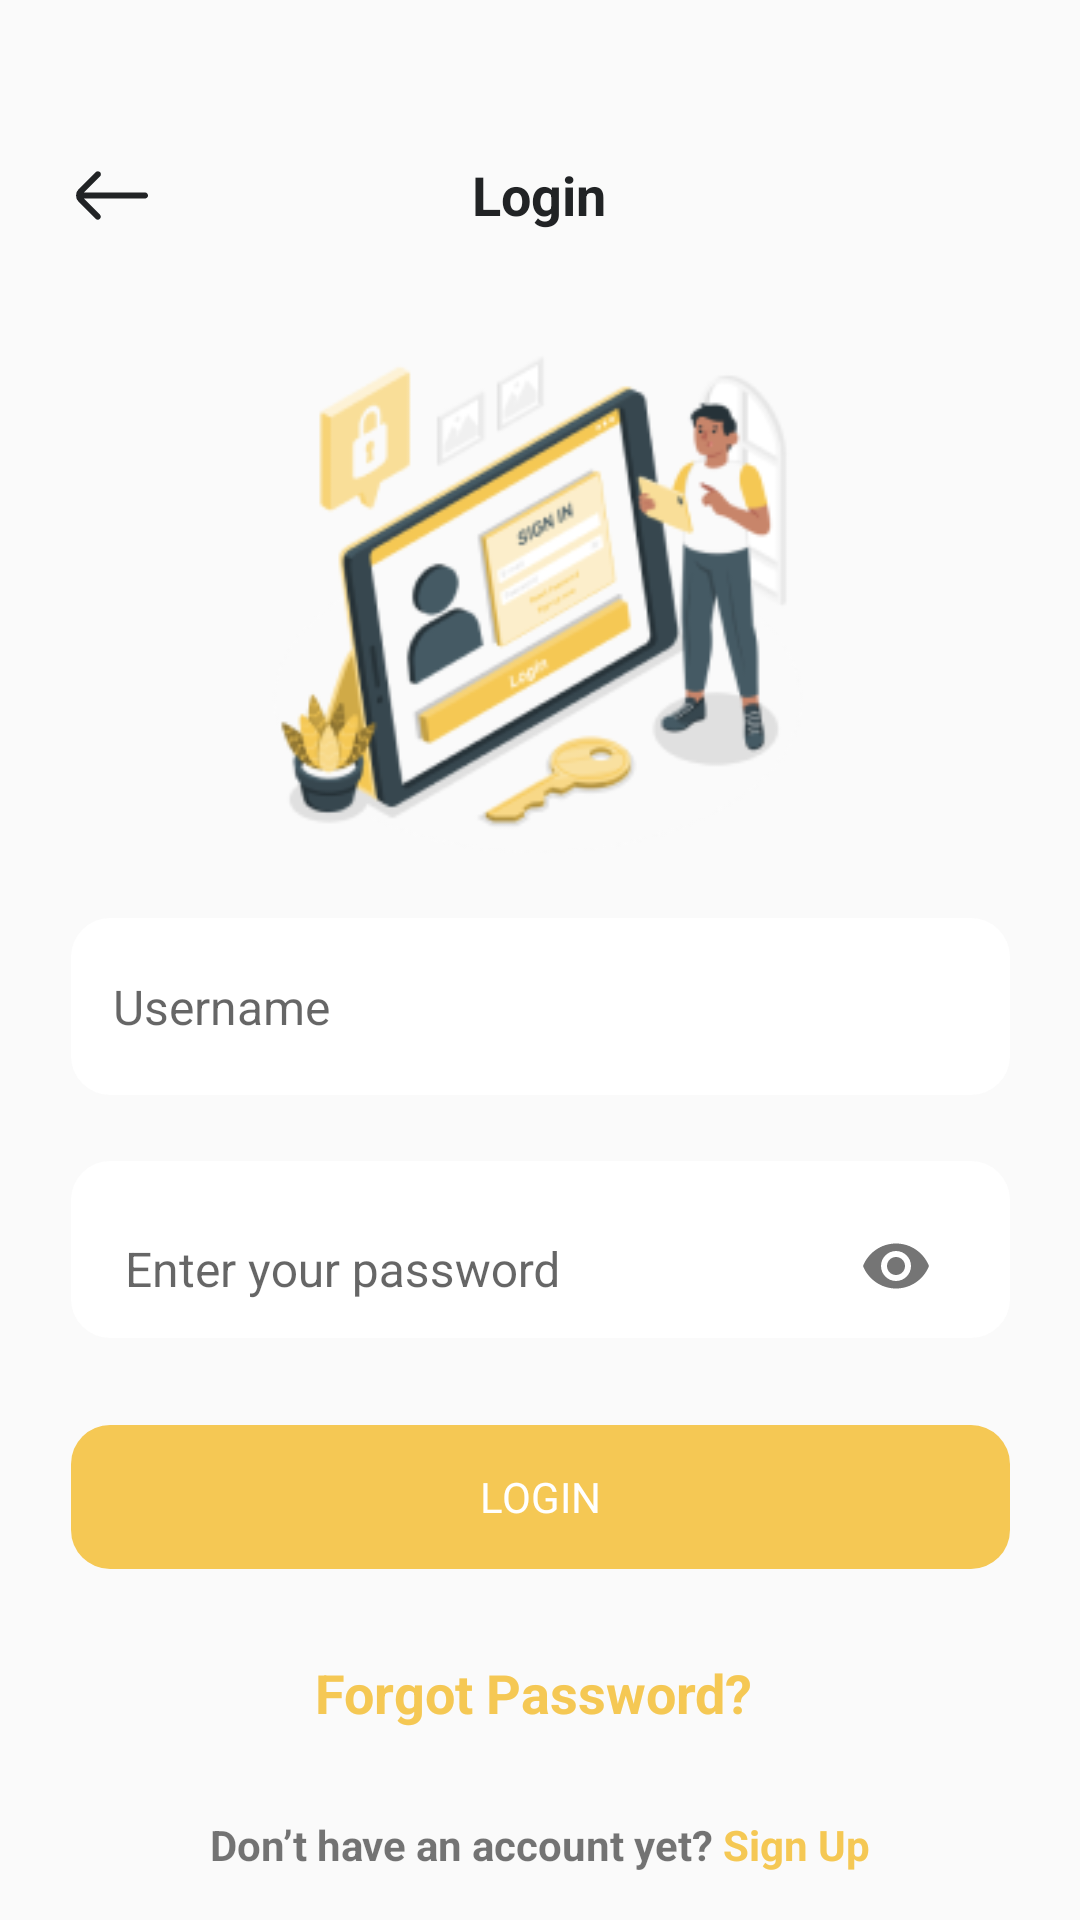

Named icons in this screenshot (1080w x 1920h) and their bounding boxes, (x1, y1, x2, y2):
return: (76, 171, 148, 220)
